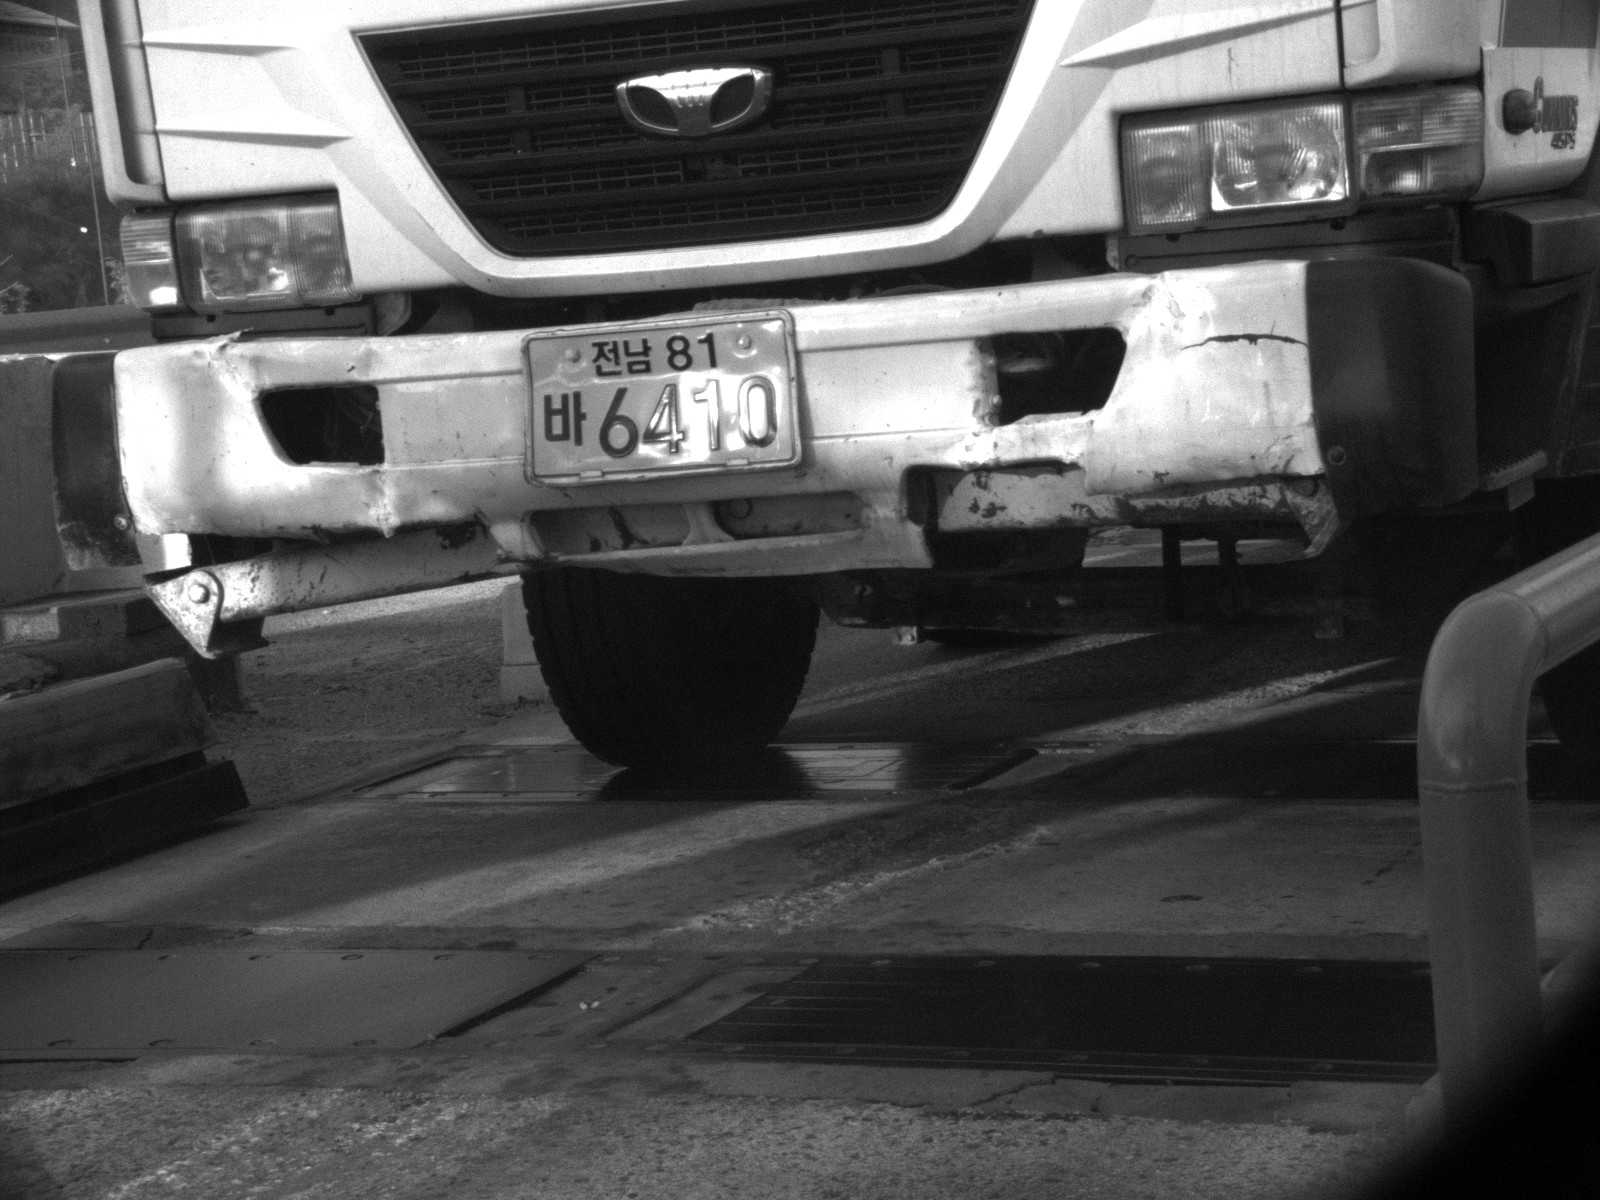car: (71, 1, 1599, 767)
plate: (516, 305, 813, 493)
